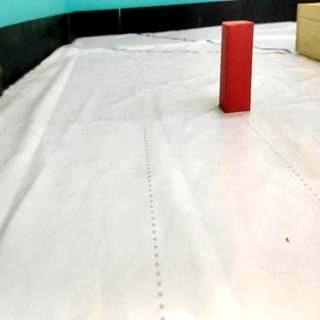redbox: (220, 18, 254, 114)
